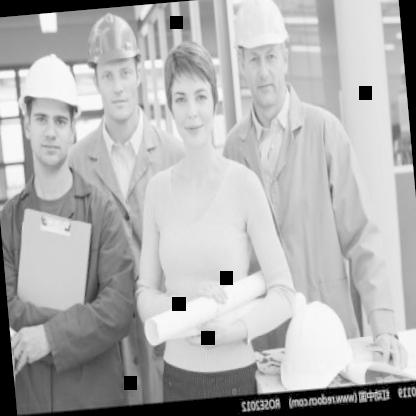helmet: (7, 38, 95, 185), (226, 0, 306, 123), (82, 5, 152, 132)
